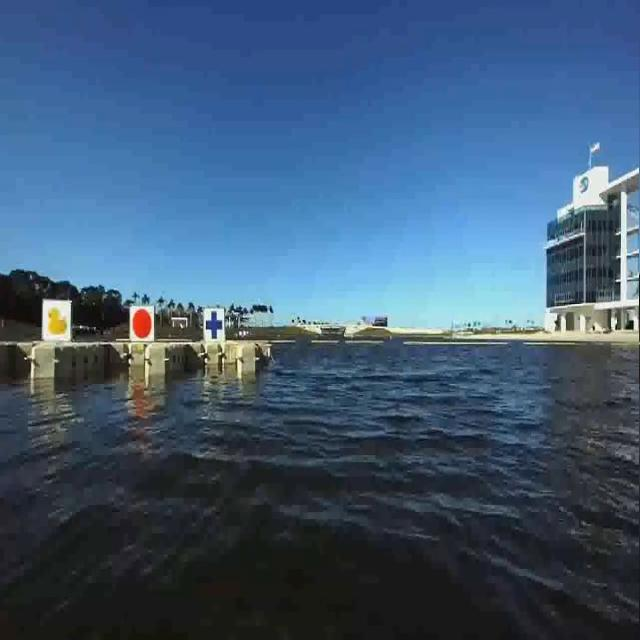blue-cross: (201, 304, 228, 344)
red-dot: (127, 298, 155, 346)
yellow-duck: (41, 294, 72, 346)
